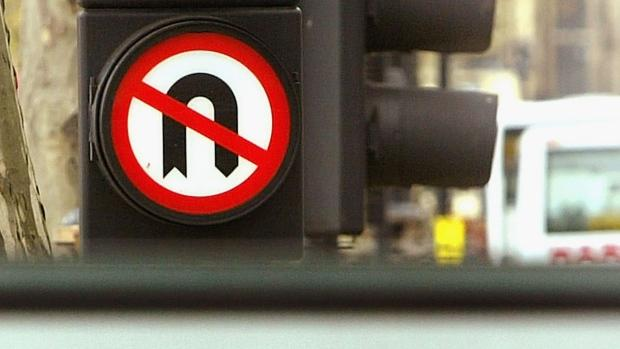no_u_turn: (105, 28, 292, 215)
